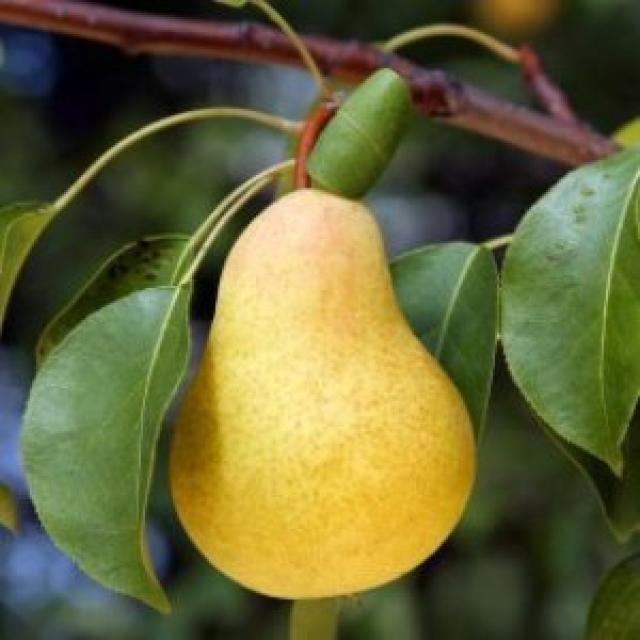paer: (115, 134, 559, 640)
